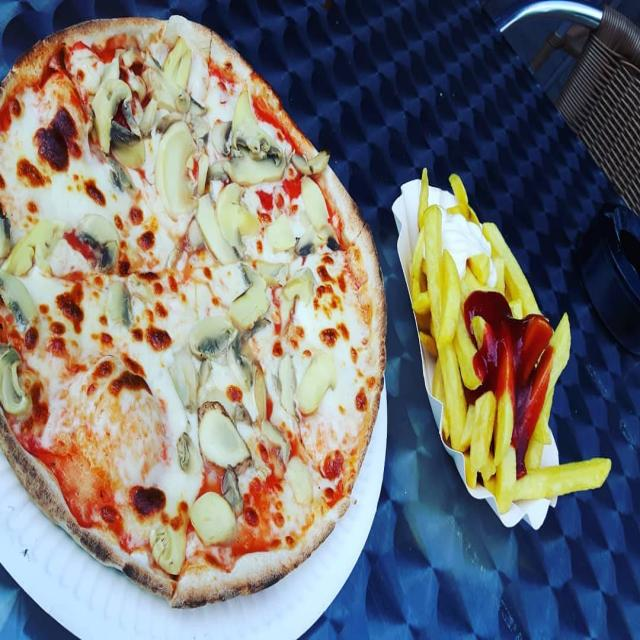mushrooms: (234, 86, 285, 182), (198, 400, 254, 471), (156, 120, 195, 214), (196, 192, 236, 267), (190, 491, 238, 550), (219, 183, 259, 253), (91, 80, 128, 154), (77, 212, 119, 272), (297, 353, 337, 416), (1, 268, 39, 329), (149, 519, 186, 579), (189, 315, 236, 362), (230, 277, 268, 331), (169, 349, 200, 411), (108, 119, 145, 168), (0, 352, 28, 415), (105, 282, 135, 335), (300, 177, 330, 229), (262, 416, 291, 468), (276, 351, 298, 418), (282, 269, 316, 310), (286, 457, 313, 508), (150, 84, 191, 115), (295, 229, 343, 255), (164, 43, 190, 91), (264, 217, 299, 251), (223, 466, 243, 517), (290, 151, 331, 175), (212, 122, 234, 154), (236, 130, 268, 151), (208, 160, 232, 184), (253, 144, 280, 165), (190, 94, 210, 121)
pizza: (0, 17, 385, 607)
